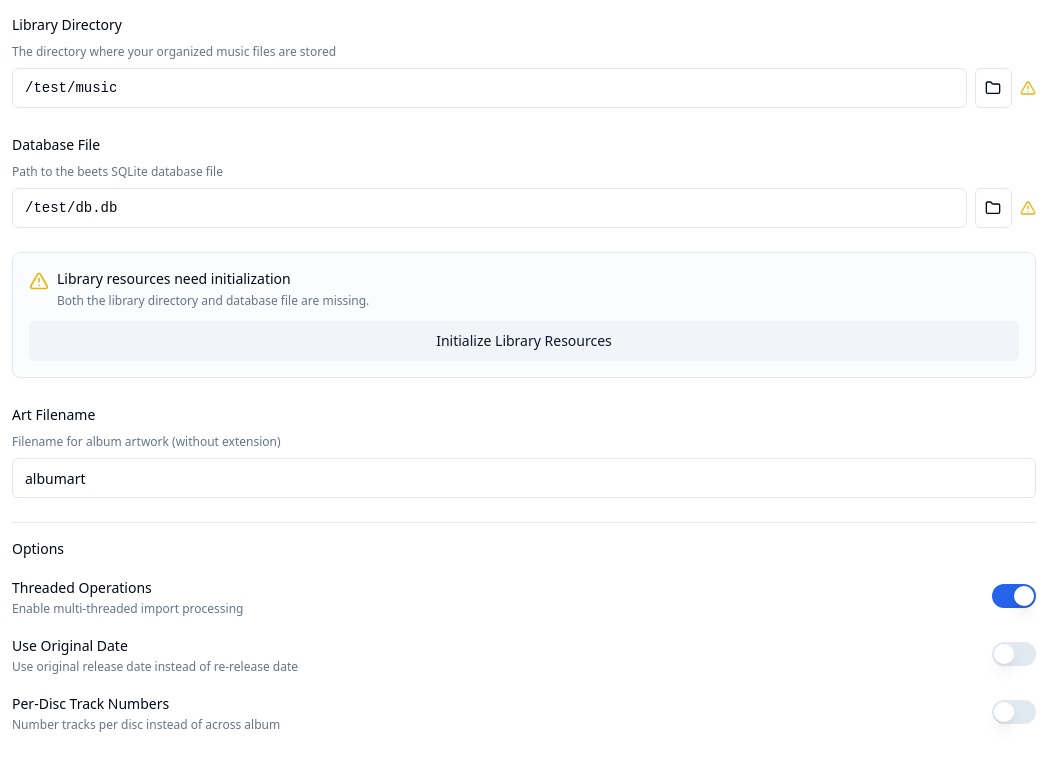
Test: GeneralSettingsSection › Initialize button › should show success message after successful initialization
Click the button "Initialize Library Resources" at (524, 341), box [29,321,1019,361]
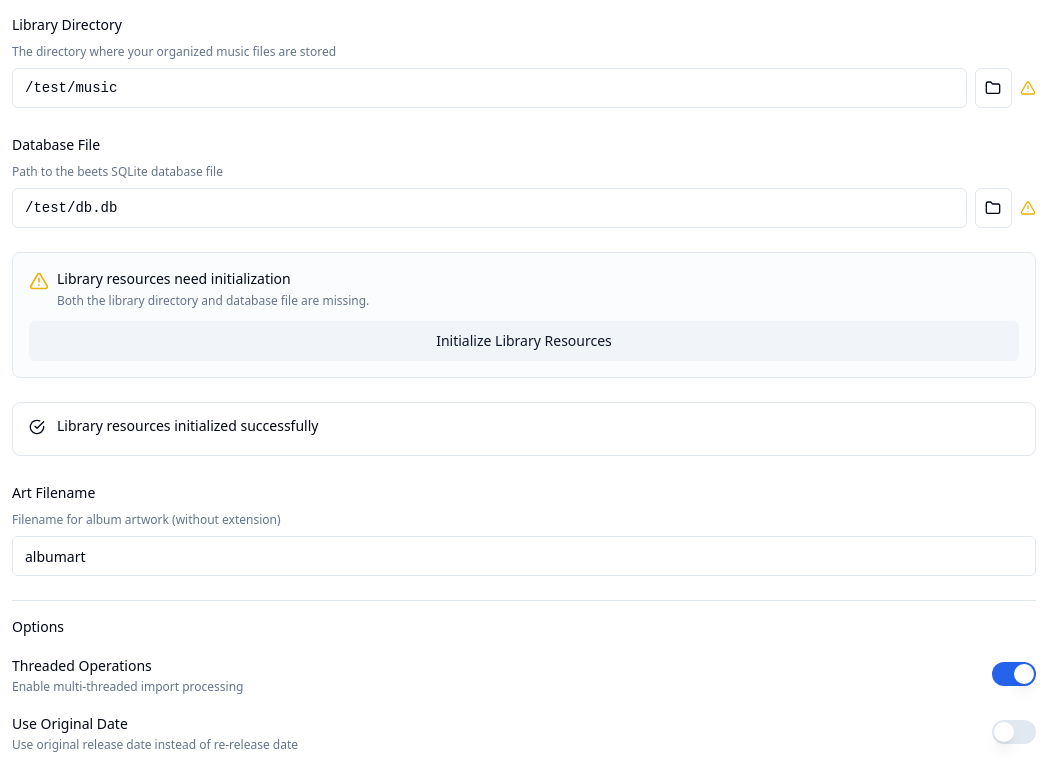
Result: the text "Library resources initialized successfully" is shown at [57,416,318,435]
